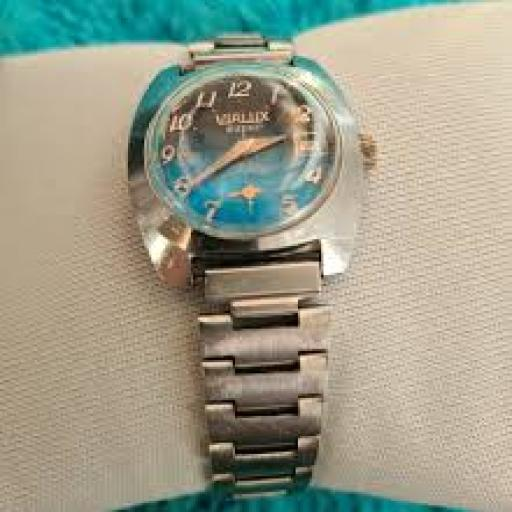KolSaati: (116, 13, 382, 499)
